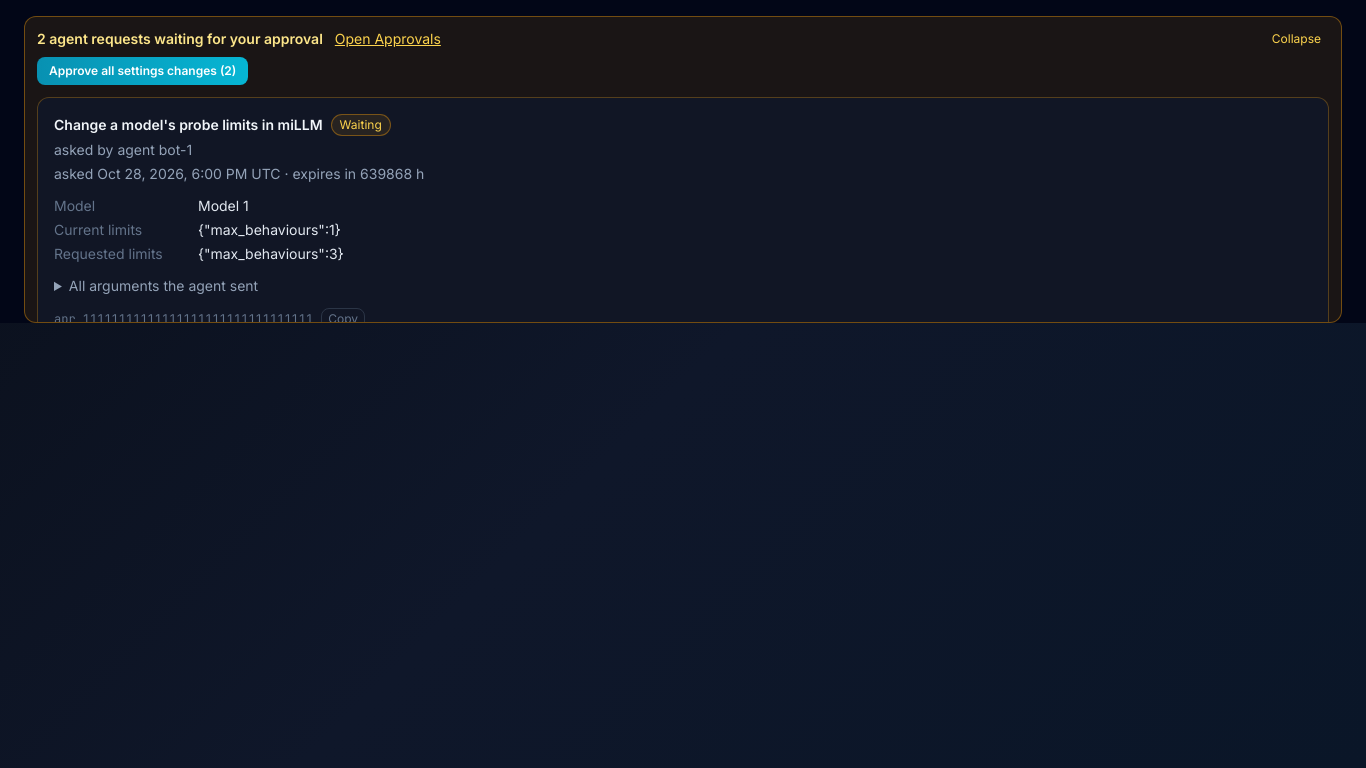
Test: Approve all settings changes › Cancel sends nothing
Click the button "Approve all settings changes (2)": (143, 71) [37, 57, 248, 85]
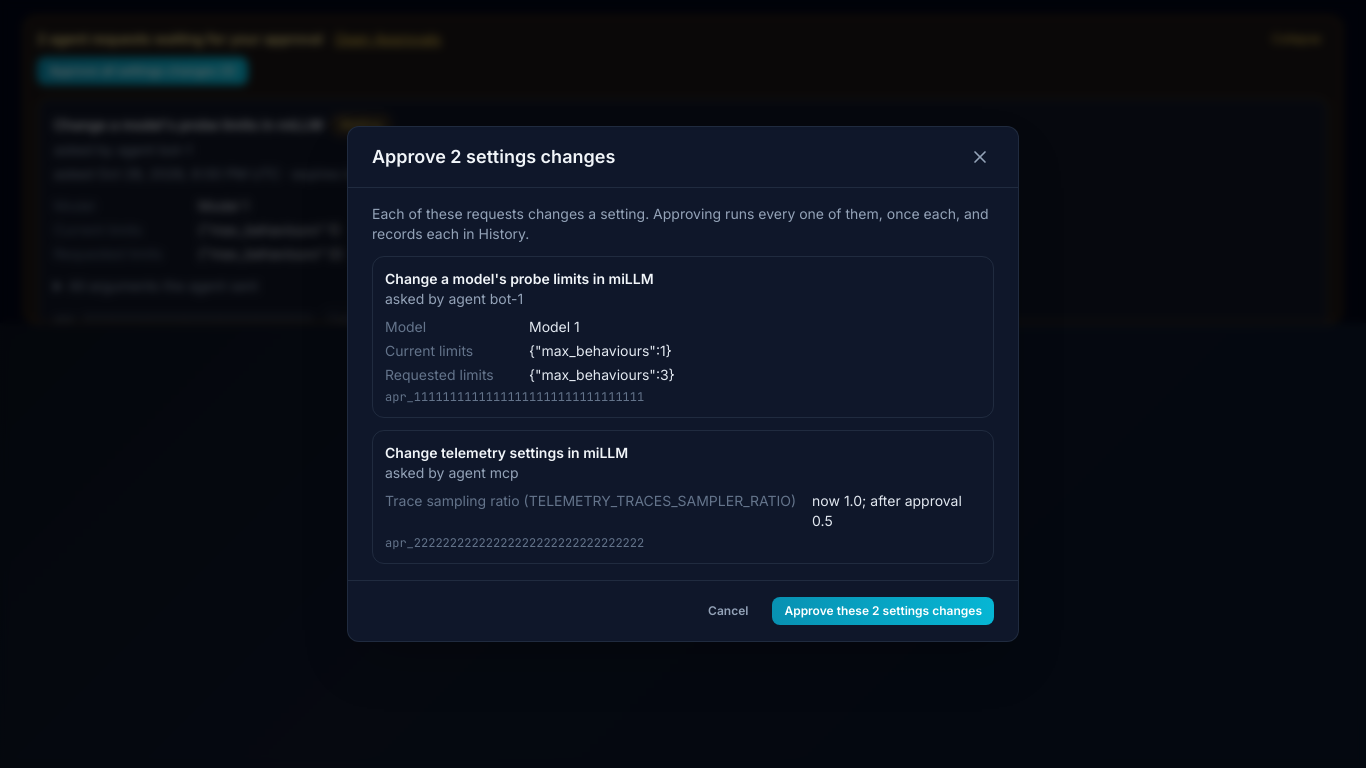
Click the button "Cancel": (728, 611) [696, 597, 760, 625]
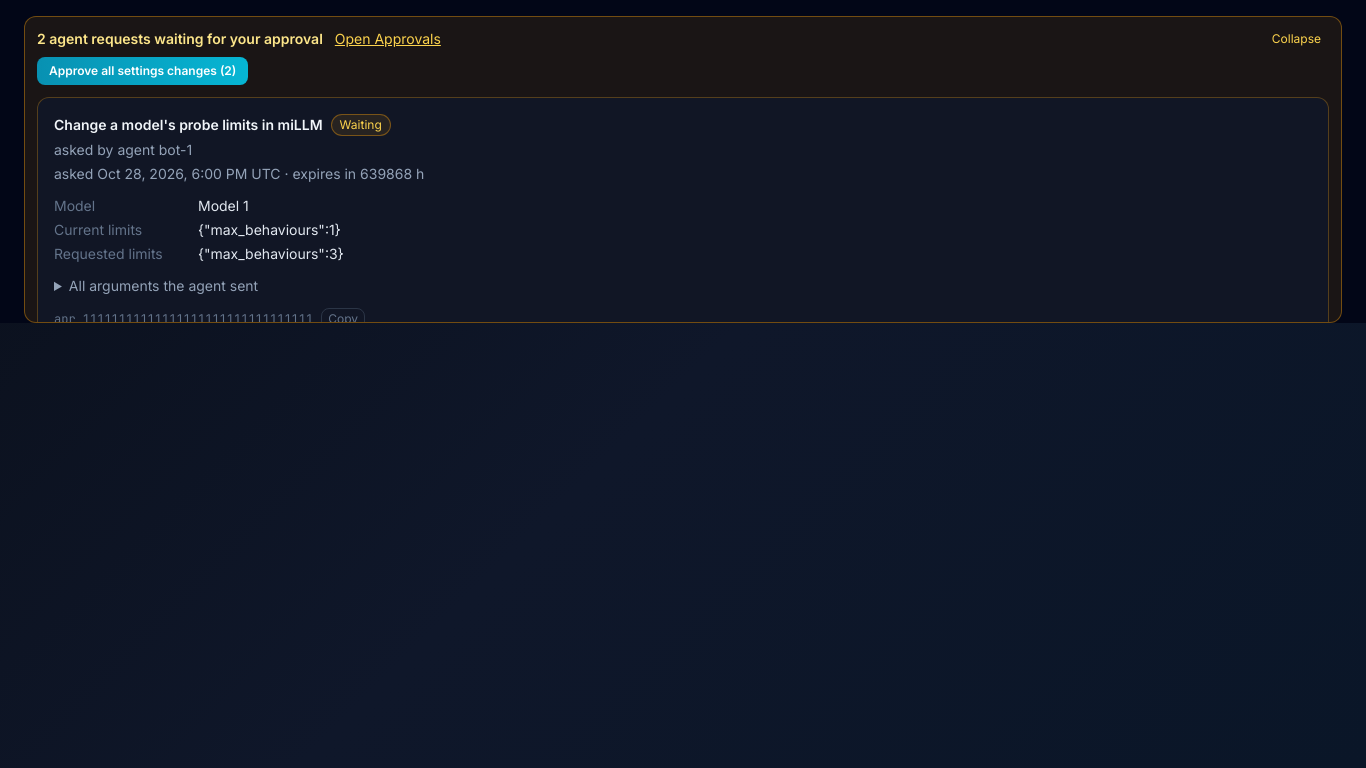
Expected: the list with test id "approve-all-list" is gone
